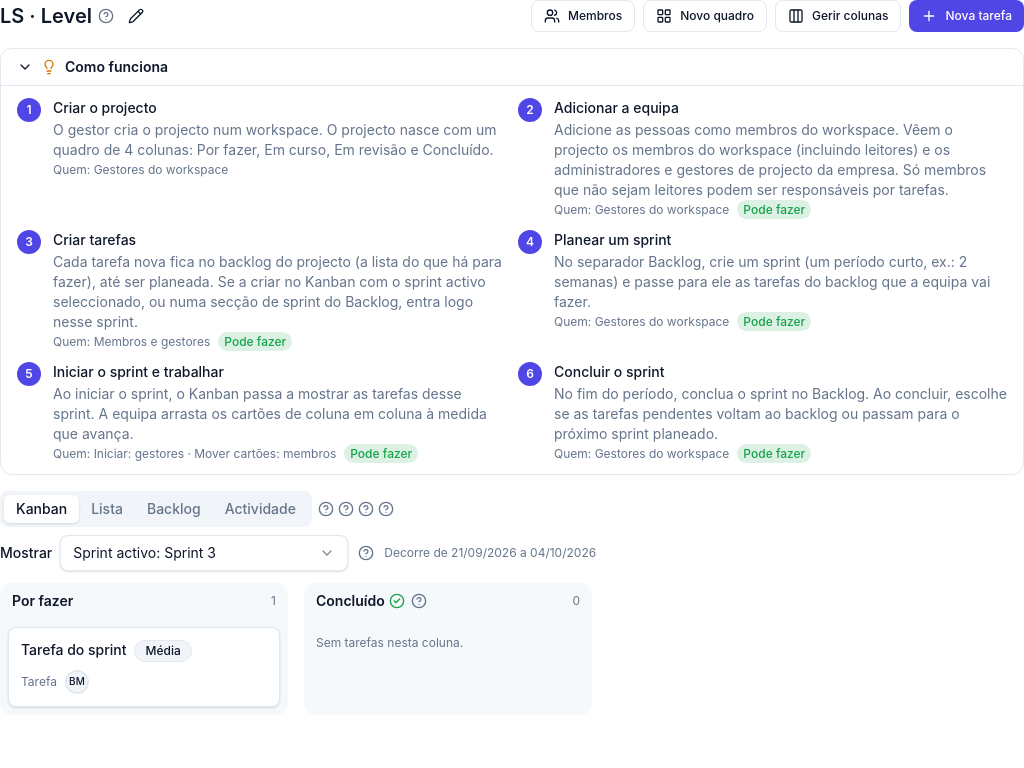
KanbanBoardPage: Kanban alinhado com sprints › "Nova tarefa" com o filtro do sprint activo pré-preenche esse sprint
Check: the button with aria-label "Tarefa: Tarefa do sprint" is shown, box left=8, top=627, right=280, bottom=707
Step 1. Click the button "Nova tarefa" → (967, 16), box left=910, top=0, right=1023, bottom=32
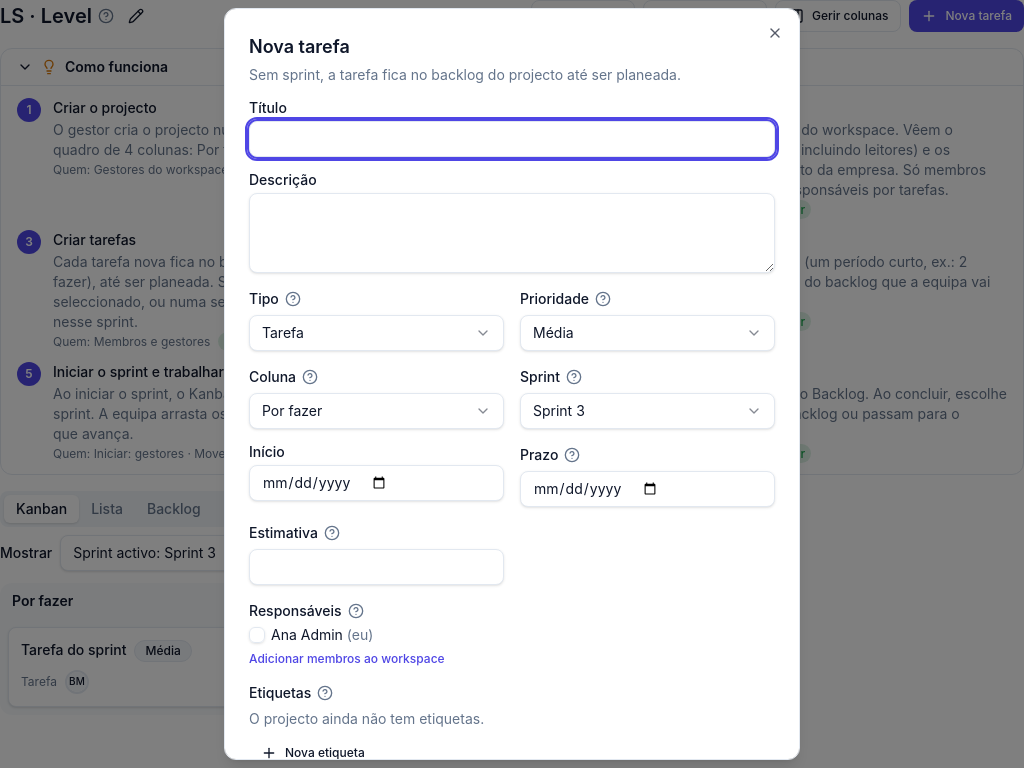
Check: the dropdown labelled "Sprint 3" is shown, box left=520, top=393, right=775, bottom=429
Check: the dropdown named "coluna" reads "Por fazer", box left=249, top=393, right=504, bottom=429
